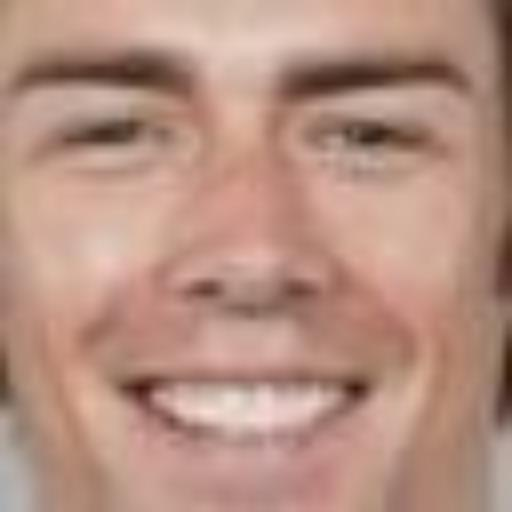left_eye: (299, 107, 420, 161)
left_lip_corner: (341, 367, 385, 406)
right_eye: (53, 108, 177, 159)
right_lip_corner: (116, 357, 164, 417)
